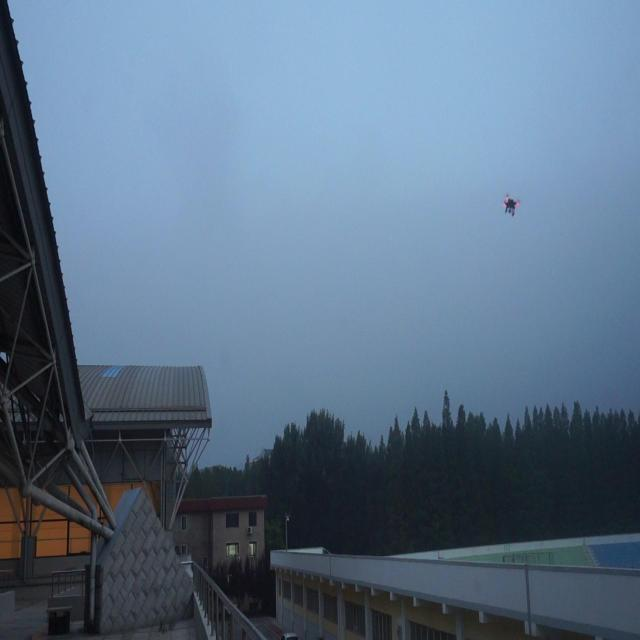drone: (500, 192, 522, 218)
